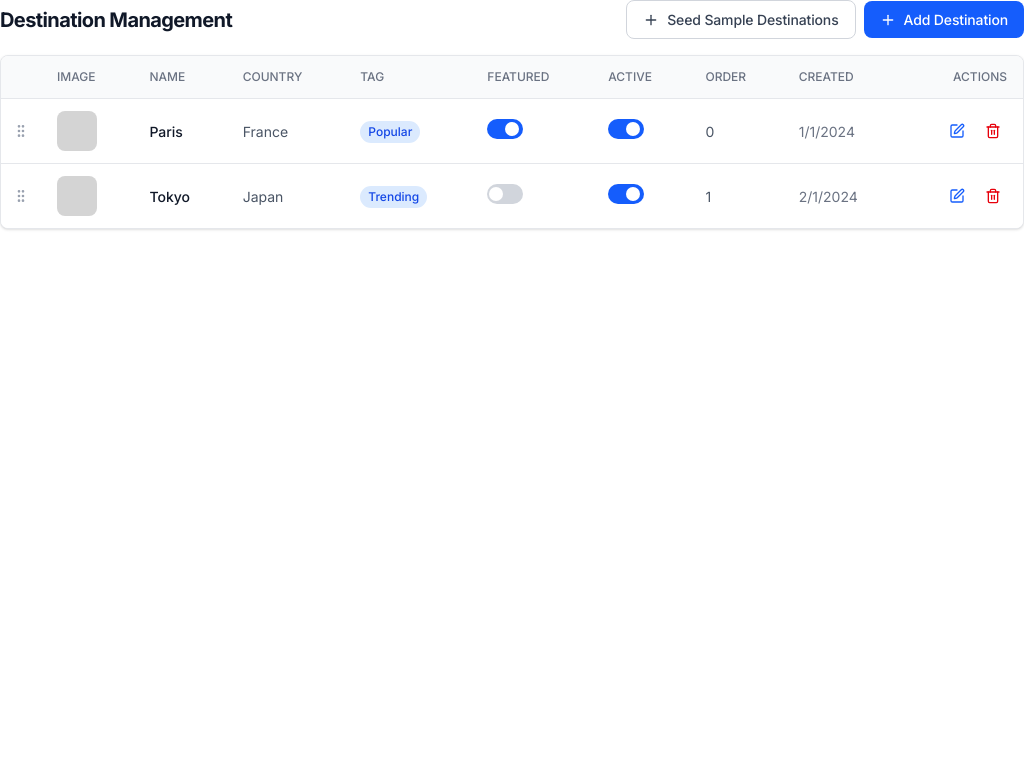
Test: DestinationManagement › Form validation (Requirements 2.5) › shows error messages when submitting form without required fields
Expected: the text "Paris" is shown, [133,98,227,164]
Note: Open the Add modal
Click the button "Add Destination" at {"x": 944, "y": 20}, box [864,1,1023,38]
(page scrolled)
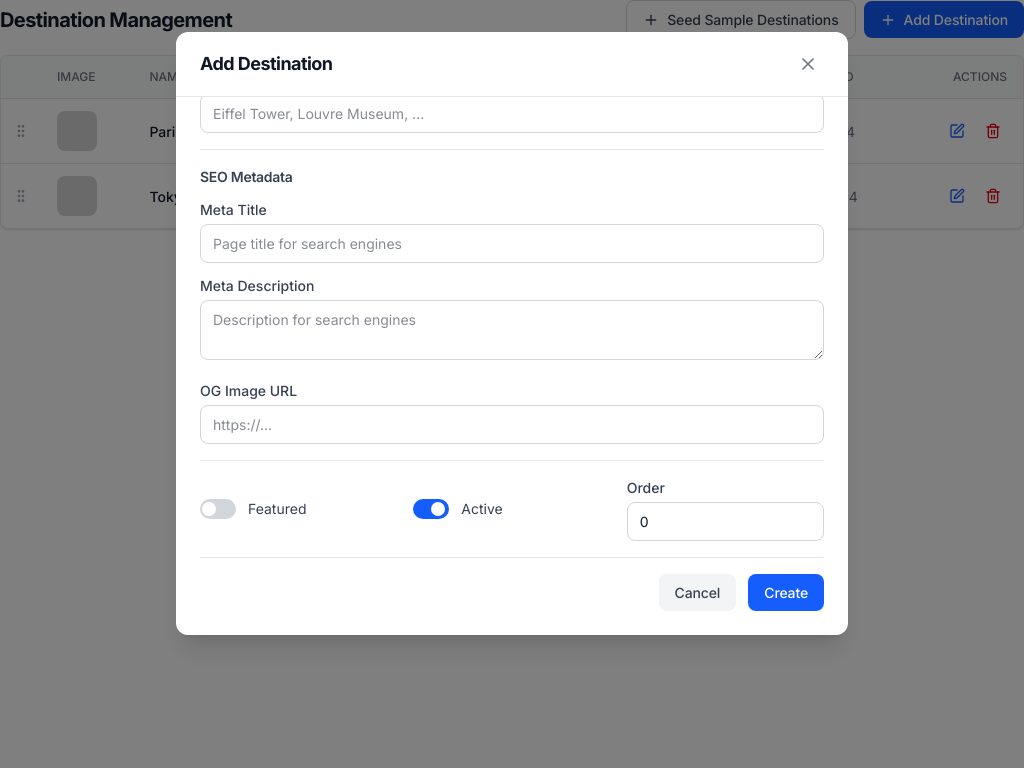
Note: Submit without filling any fields
Click the button "Create" at {"x": 786, "y": 592}, box [748,574,824,611]
(page scrolled)
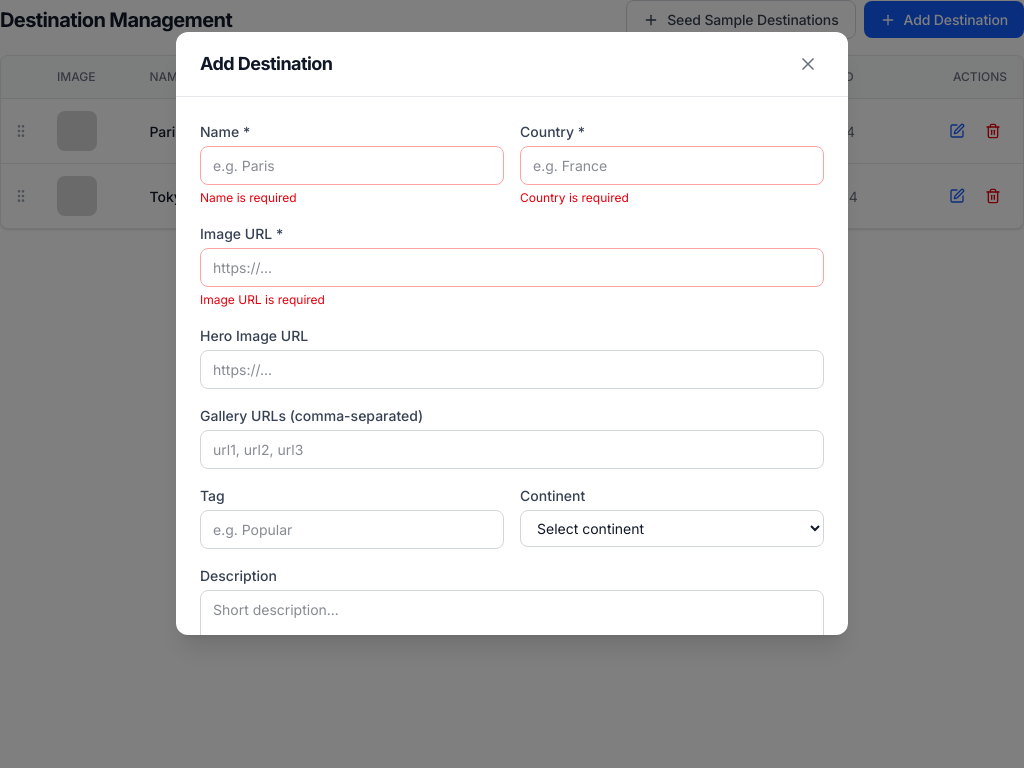
Result: the text "Name is required" is shown at [200,190,297,205]
Result: the text "Country is required" is shown at [520,190,629,205]
Result: the text "Image URL is required" is shown at [200,292,325,307]
